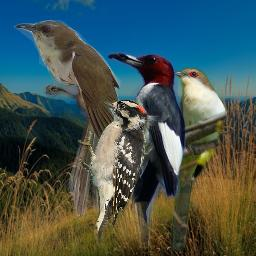Cuckoo: (14, 19, 122, 216), (166, 67, 228, 251)
Woodpecker: (108, 51, 186, 248), (78, 100, 150, 248)
